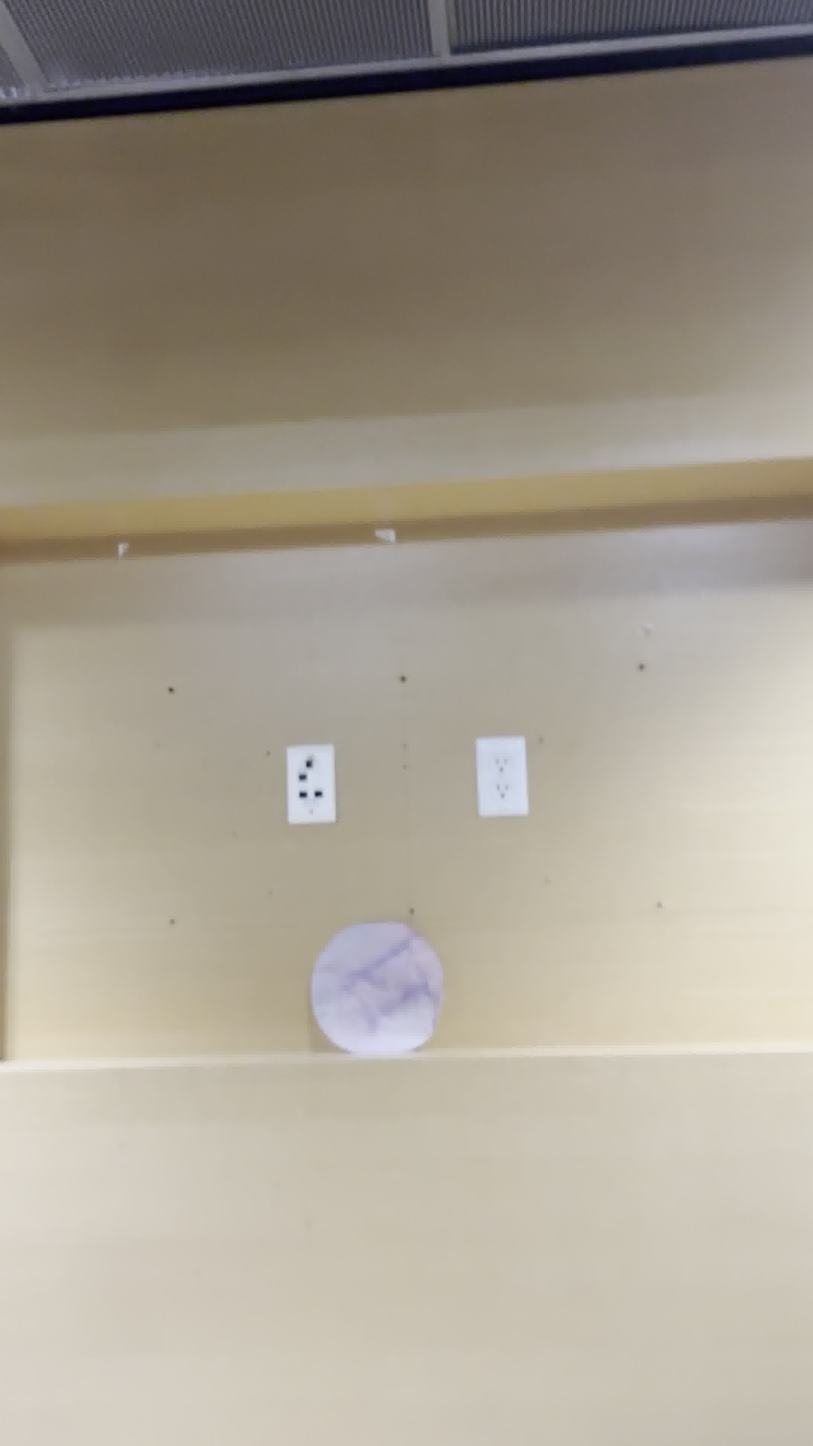Target: (303, 926, 448, 1056)
